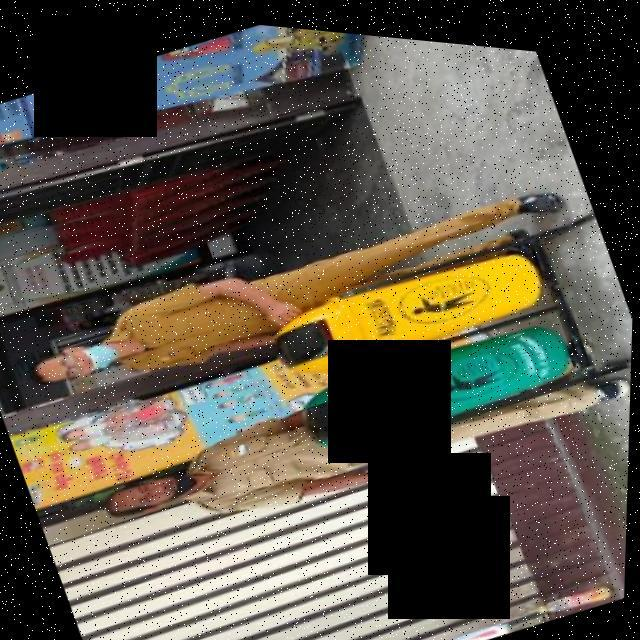bin: (261, 193, 573, 406), (290, 275, 595, 482)
